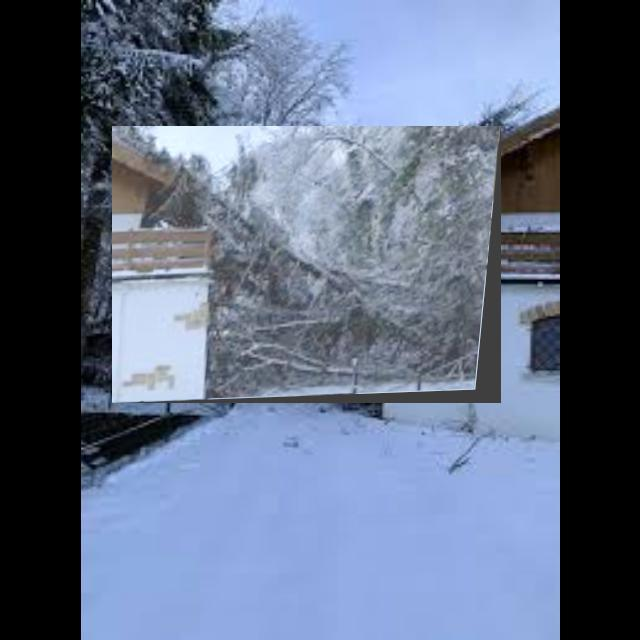fallen_tree: (112, 126, 502, 404)
